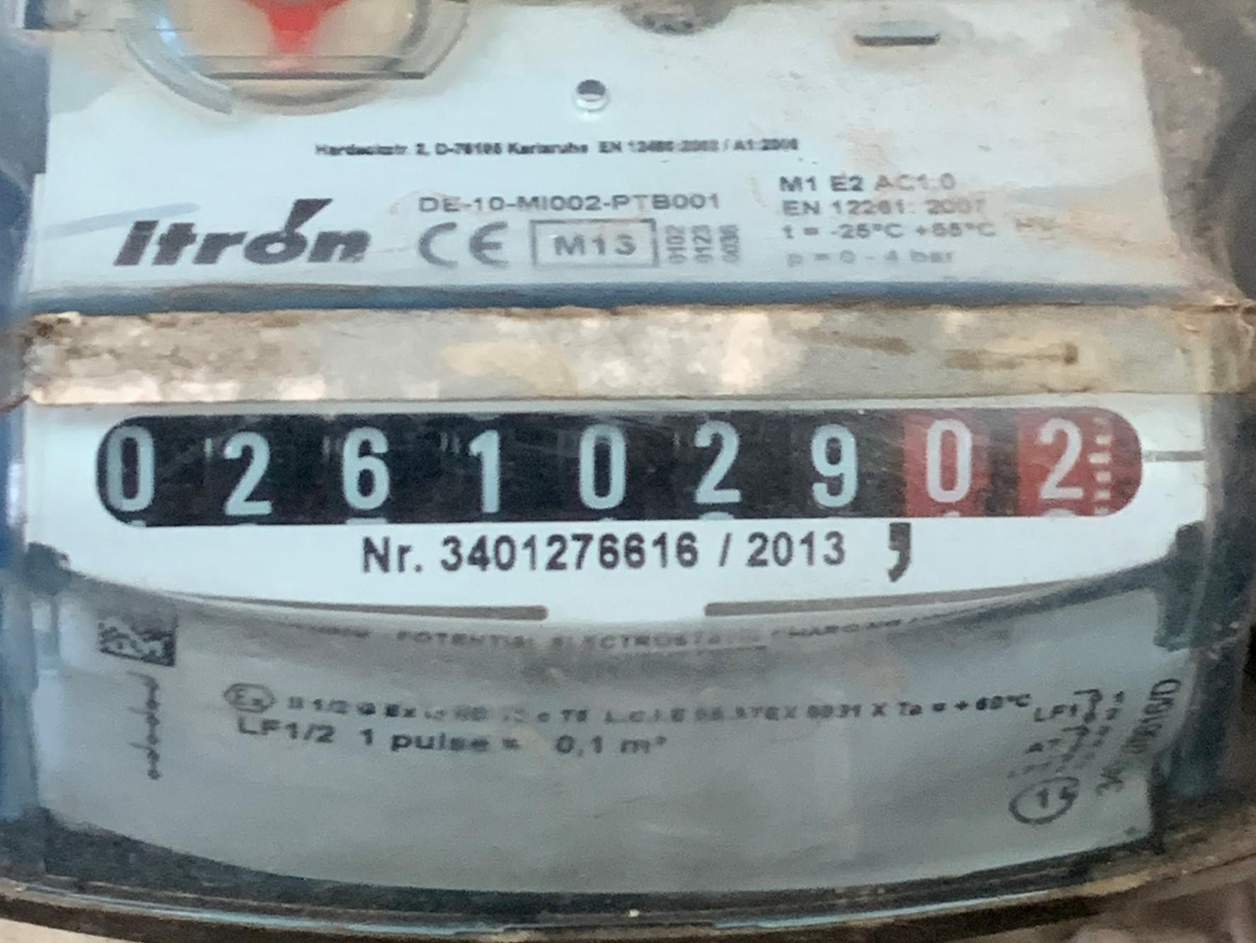analog_dial: (90, 398, 1210, 540)
